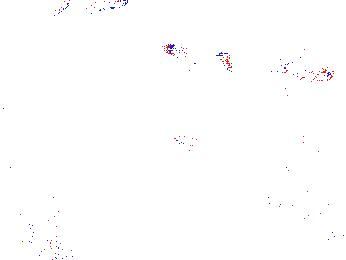glassfish: (169, 132, 259, 184)
red belly glassfish: (283, 60, 335, 83)
redtail glassfish: (165, 40, 235, 74), (50, 1, 129, 21)
